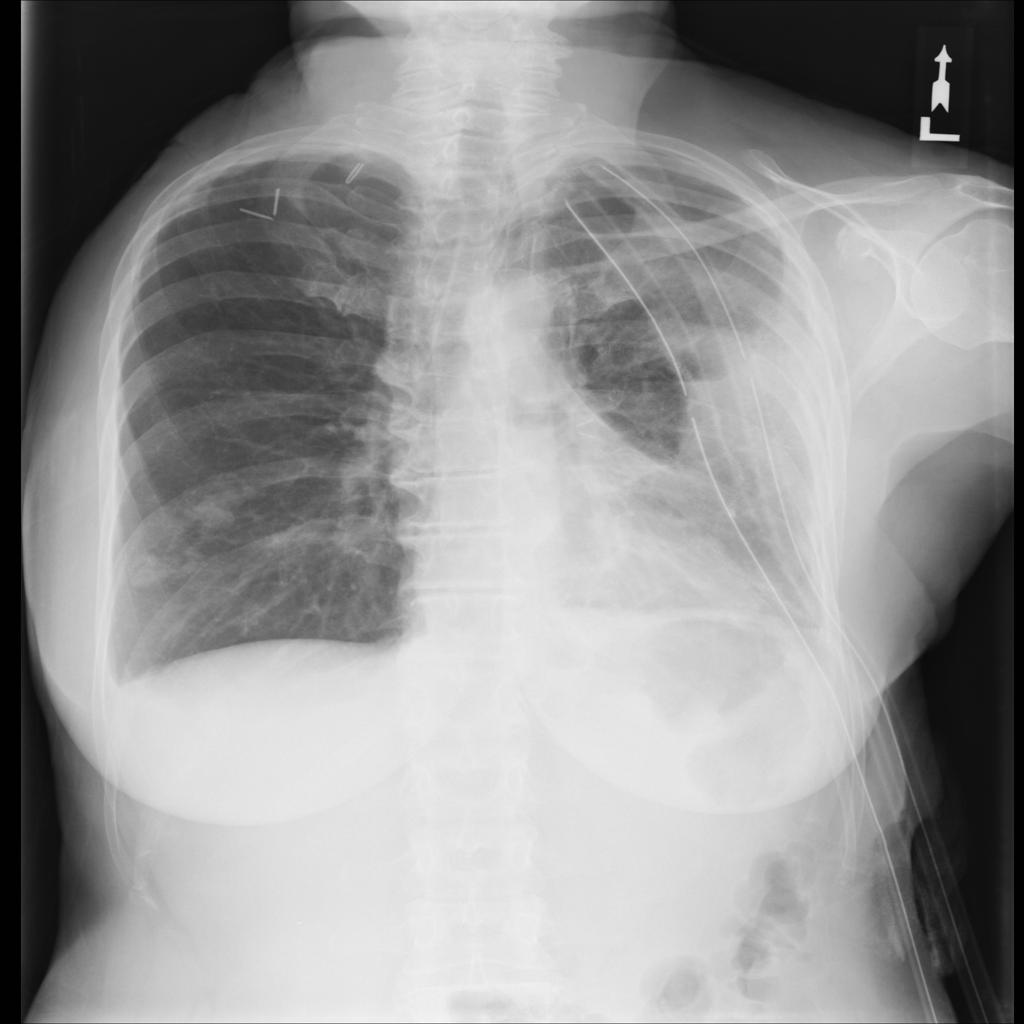nodule: (172, 477, 255, 542), (109, 534, 188, 602)
